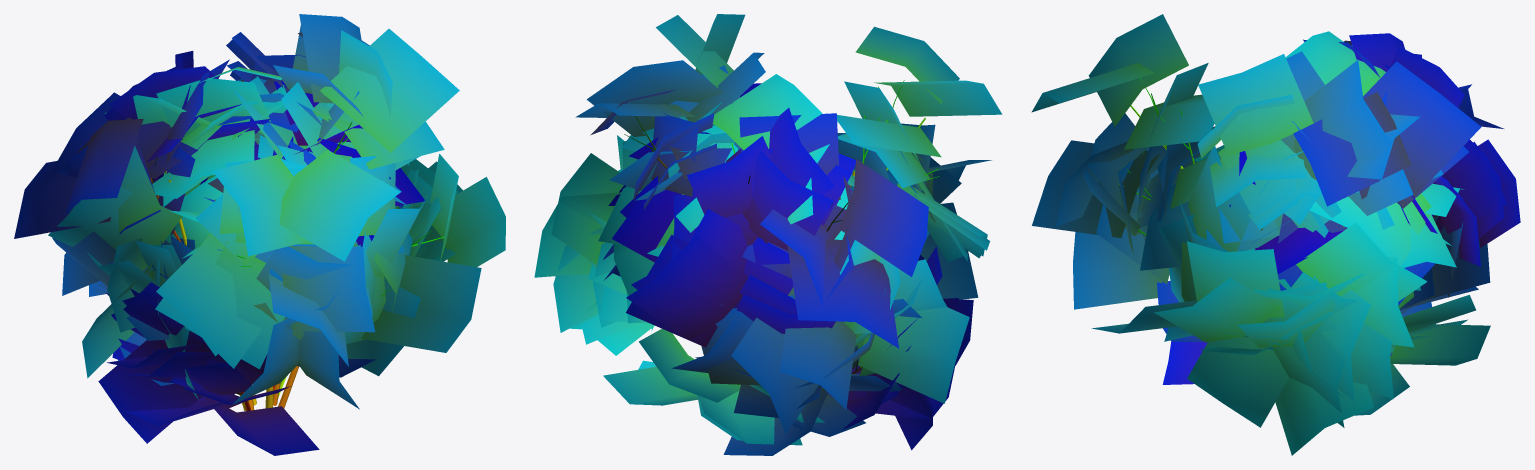
Rendered from SM_Bush_Hazel_A_LOD1.fbx.
3 views of the same model, side by side, from view 1: azimuth 30°, elevation 25°; view 2: azimuth 150°, elevation 25°; view 3: azimuth 270°, elevation 25° (orthographic). The views are drawn at different scales.
Parts seen in each view (by area): view 1: SM_Bush_Hazel_A_LOD1; view 2: SM_Bush_Hazel_A_LOD1; view 3: SM_Bush_Hazel_A_LOD1.
Part boxes in pixels (x1,y1,x2,y2): SM_Bush_Hazel_A_LOD1: [14, 14, 505, 455]; SM_Bush_Hazel_A_LOD1: [534, 14, 1002, 455]; SM_Bush_Hazel_A_LOD1: [1031, 14, 1520, 455].
Size of the model in its own units: 2.14 by 1.97 by 2.29.
